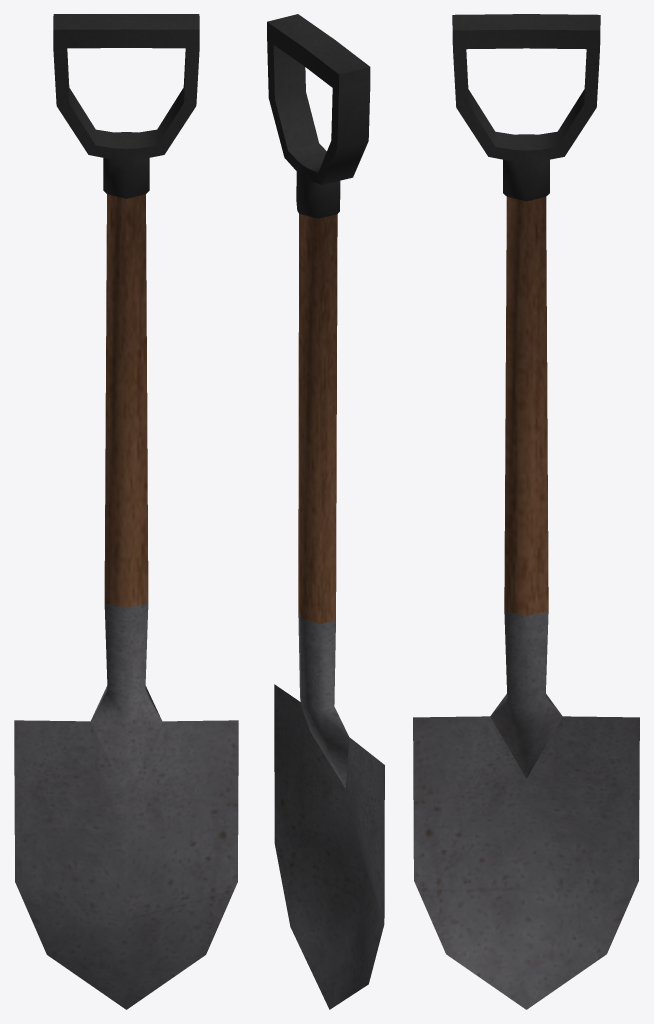
File: shovel.glb
The picture shows the model from 3 angles, left to right: view 1: azimuth 90°, elevation 25°; view 2: azimuth 210°, elevation 25°; view 3: azimuth 270°, elevation 25°; orthographic projection. The views are drawn at different scales.
Parts seen in each view (by area): view 1: Shovel; view 2: Shovel; view 3: Shovel.
Boxes of the visible parts, x1=… form: Shovel: x1=14, y1=14, x2=238, y2=1009; Shovel: x1=267, y1=14, x2=384, y2=1009; Shovel: x1=413, y1=14, x2=639, y2=1009.
Bounding box in the file's own units: 0.1143 × 1.51 × 0.3134.
1 material, 1 textured.
